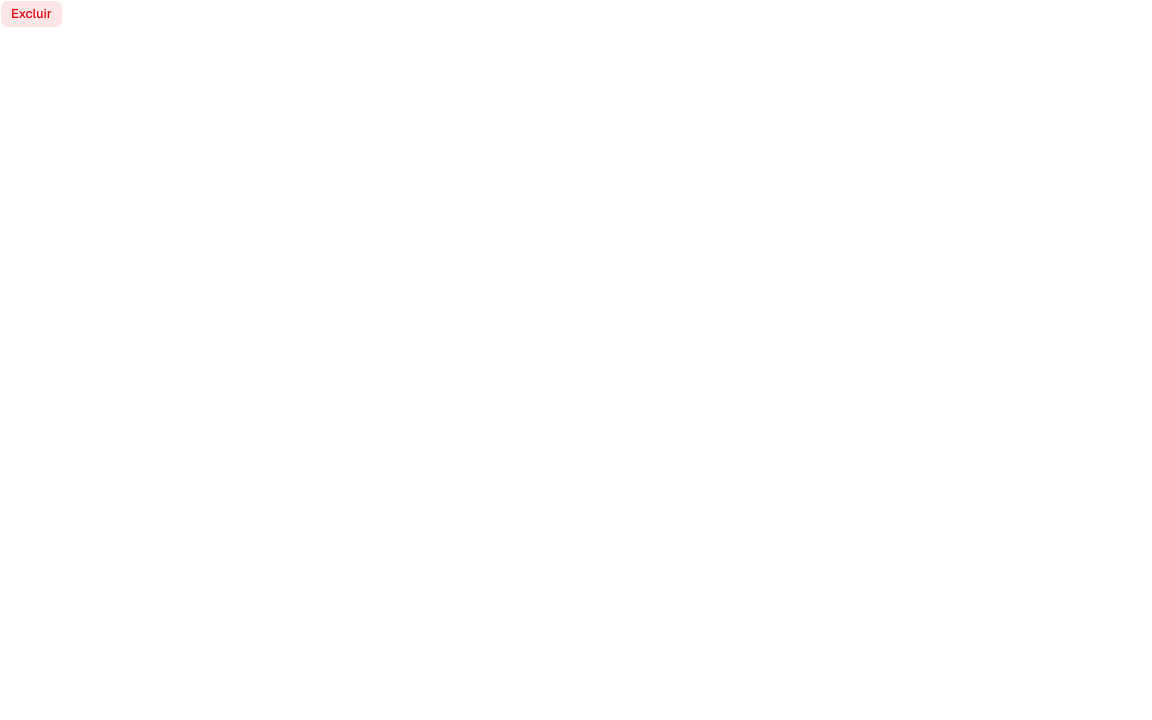
Test: ExcluirTarefaDialog › não fecha enquanto exclui (Esc, Cancelar) e confirmar fica aria-disabled
The width and height of the screenshot is (1152, 720).
Later steps or results of the test are not shown.
Click the button with aria-label "Excluir Pagar contas": (31, 14) [0,0,63,28]
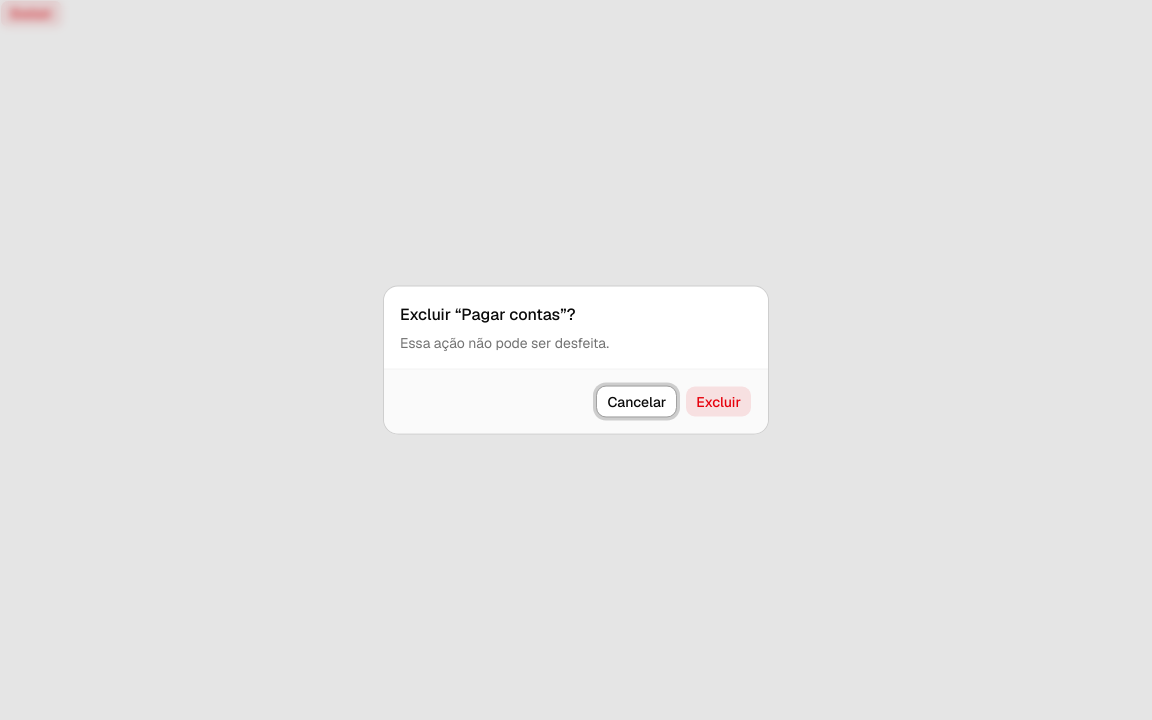
Now the dialog is shown, box [384,286,768,434]
